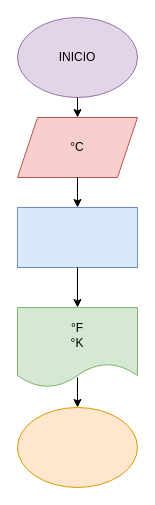
This 155x505 diagram has some shape labels left out. Each missing label, with the centre of its shape:
"FIN" belongs at (77,447).
"°F = (°C x 9/5) + 32 °K = °C + 273.15" belongs at (77,237).
